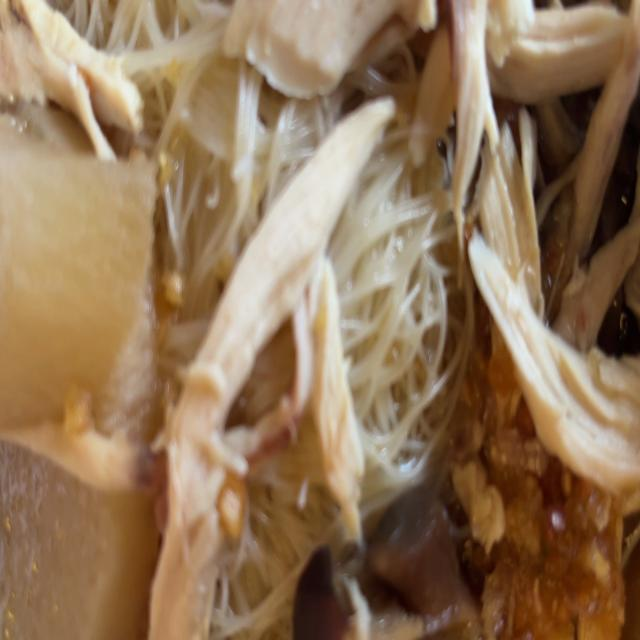chicken_shredded: (167, 87, 398, 521), (453, 4, 640, 480), (0, 0, 138, 141), (222, 0, 419, 82)
daikon_radish: (0, 134, 149, 414), (0, 418, 152, 640)
noodle: (0, 0, 640, 640)
